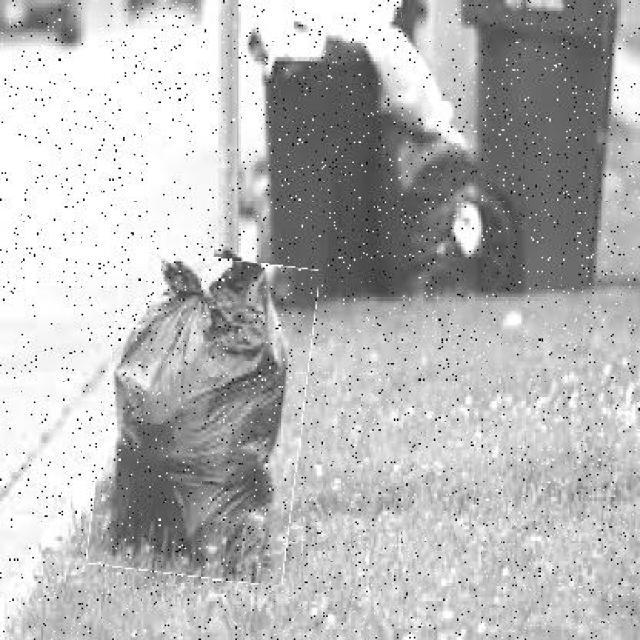waste: (95, 252, 311, 580)
